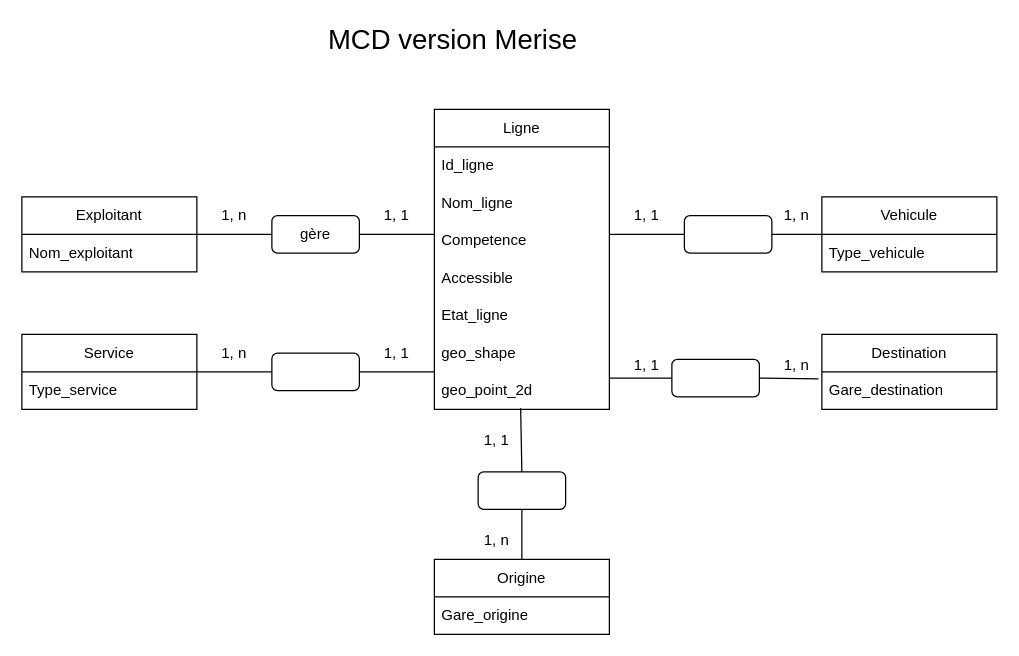
This 1019x656 diagram has some shape labels left out. Each missing label, with the centre of its shape:
arrive: (x=715, y=377)
part: (x=521, y=490)
propose: (x=315, y=371)
utilise: (x=727, y=233)
